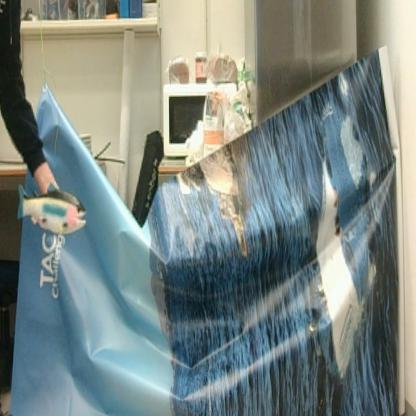rubberfish: (16, 179, 88, 237)
